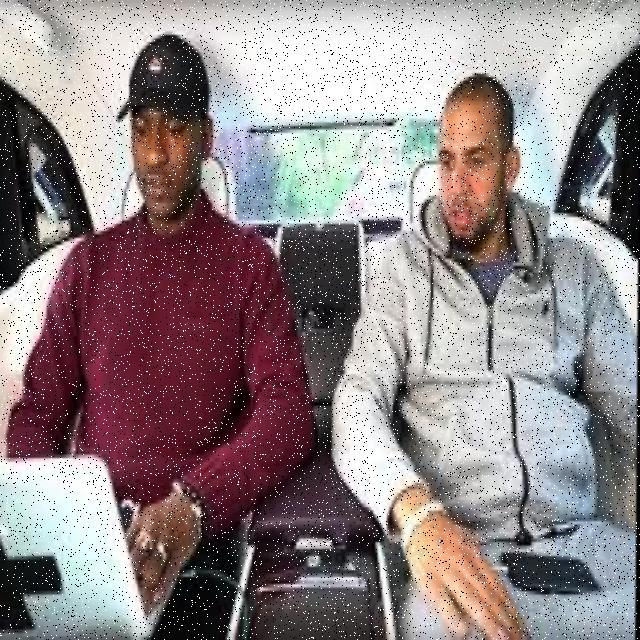noSeatbelt: (48, 186, 260, 496), (388, 206, 589, 512)
